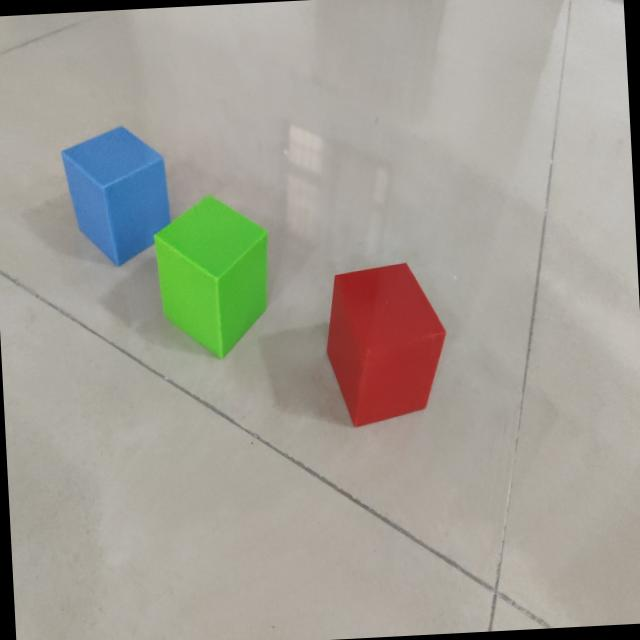blue: (61, 127, 173, 267)
green: (152, 197, 270, 361)
red: (326, 263, 447, 429)
